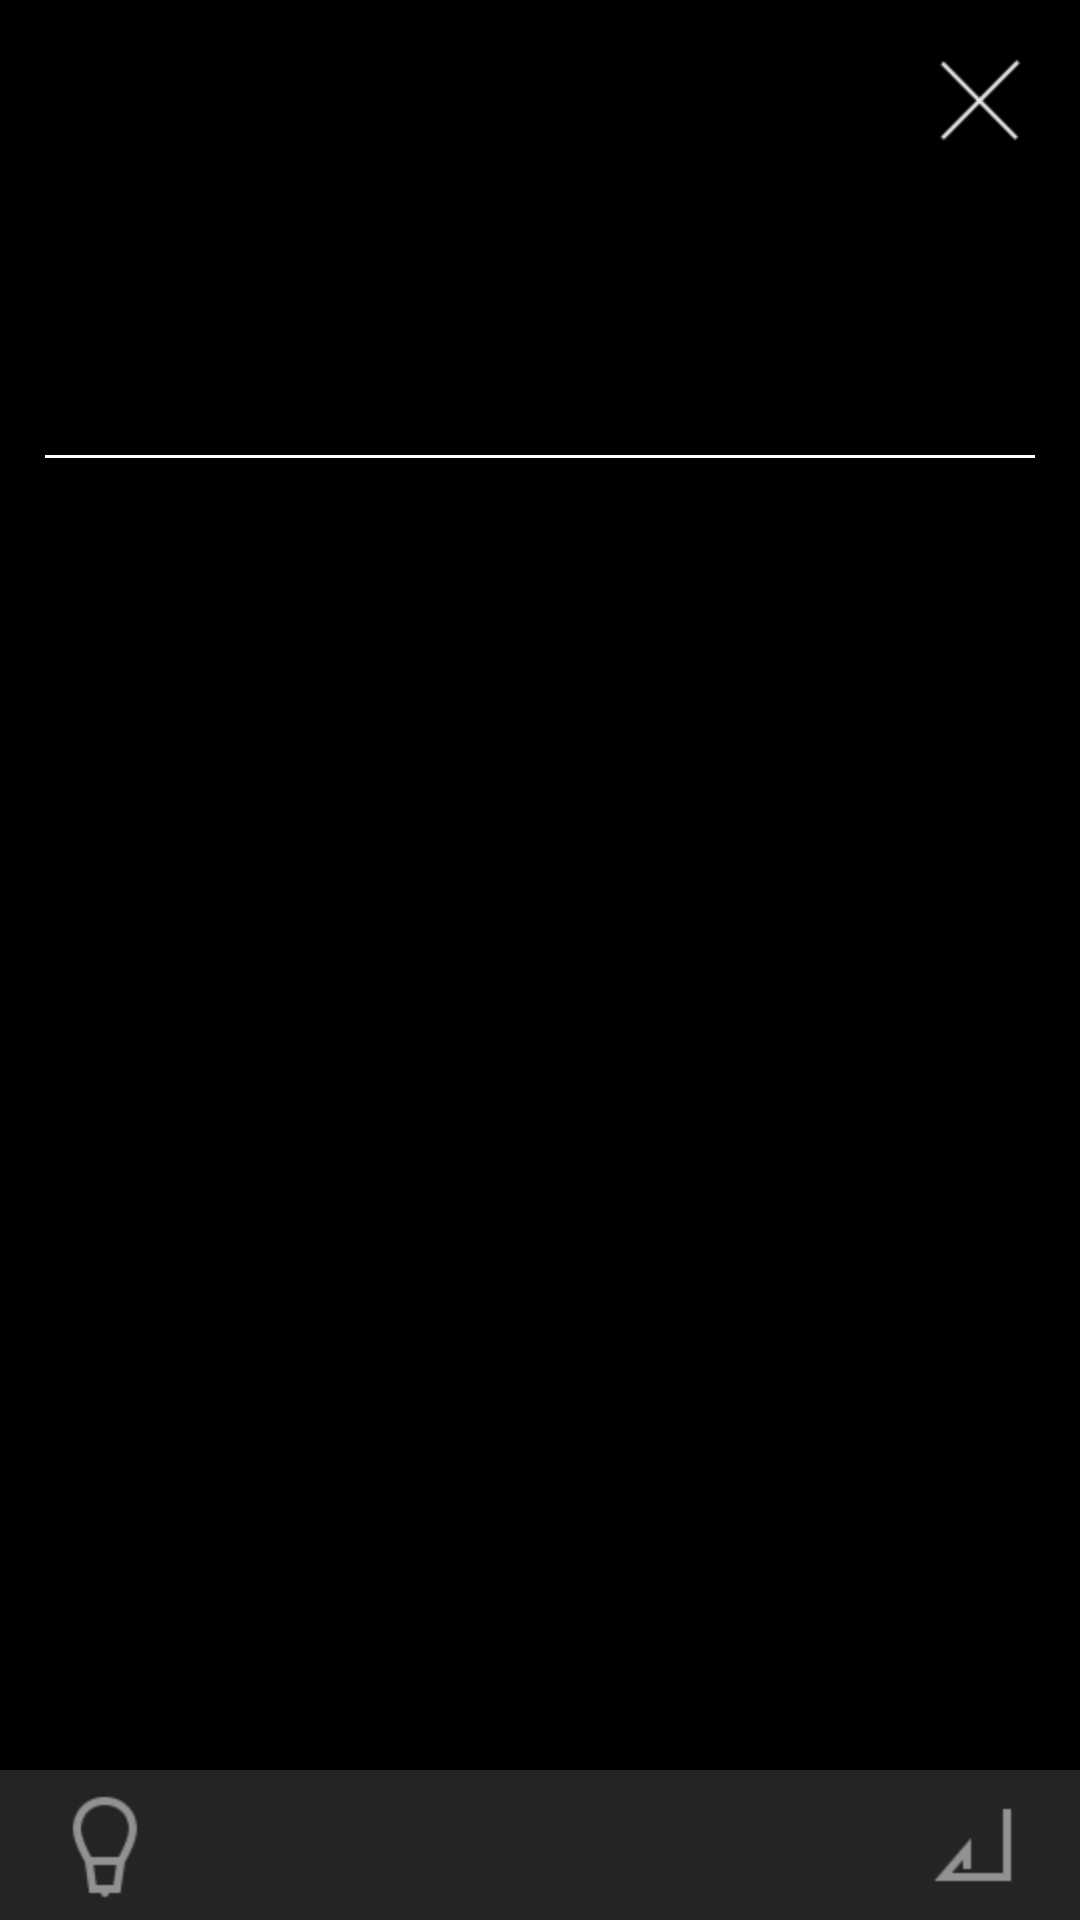

Where icons sit on this 1080w x 1920h app screen, as (x1, y1, x2, y2):
spell confirm: (935, 1808, 1012, 1882)
spell prompt: (72, 1796, 137, 1897)
